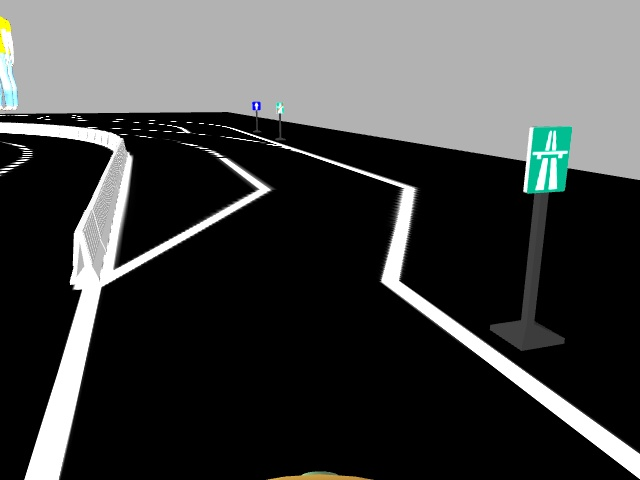HighwayEntrance: (529, 124, 567, 191)
HighwayExit: (276, 102, 284, 114)
OneWay: (252, 101, 261, 111)
